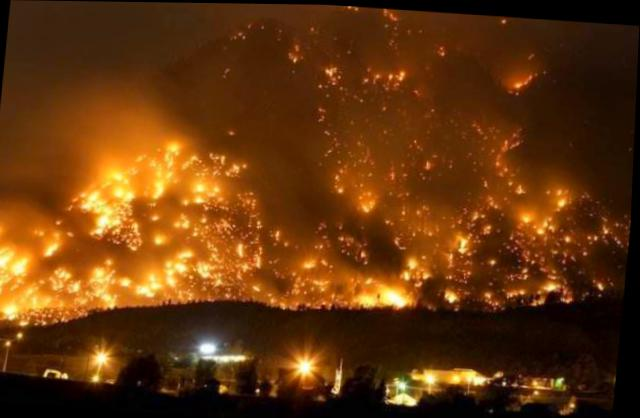fire: (291, 52, 592, 315), (0, 133, 274, 324)
